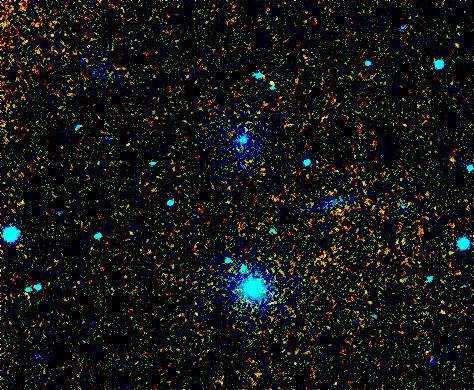star: (259, 71, 289, 101)
